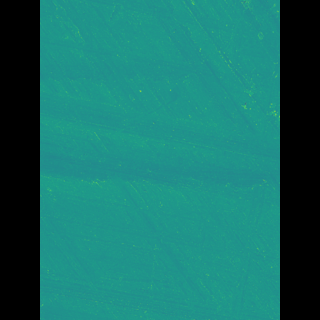Loch: (69, 91, 249, 208), (211, 45, 251, 319), (69, 33, 228, 92)
